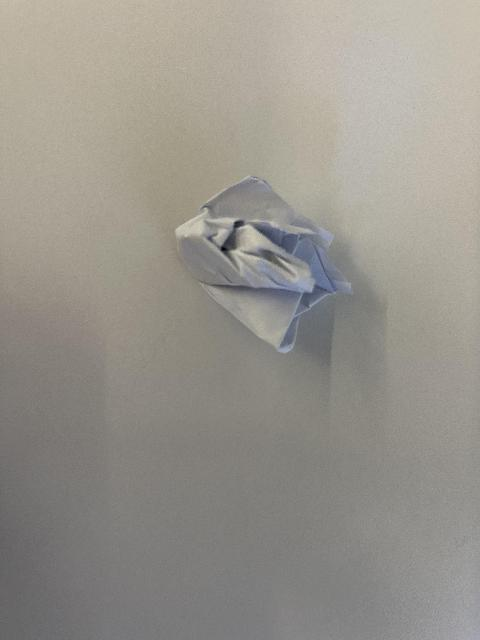Kagit: (174, 173, 356, 356)
